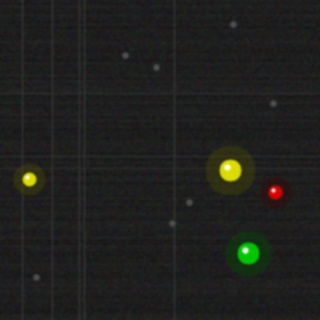green_normal: (235, 240, 261, 266)
red_fault: (266, 183, 284, 201)
yellow_warning: (217, 157, 243, 183), (20, 170, 38, 188)
